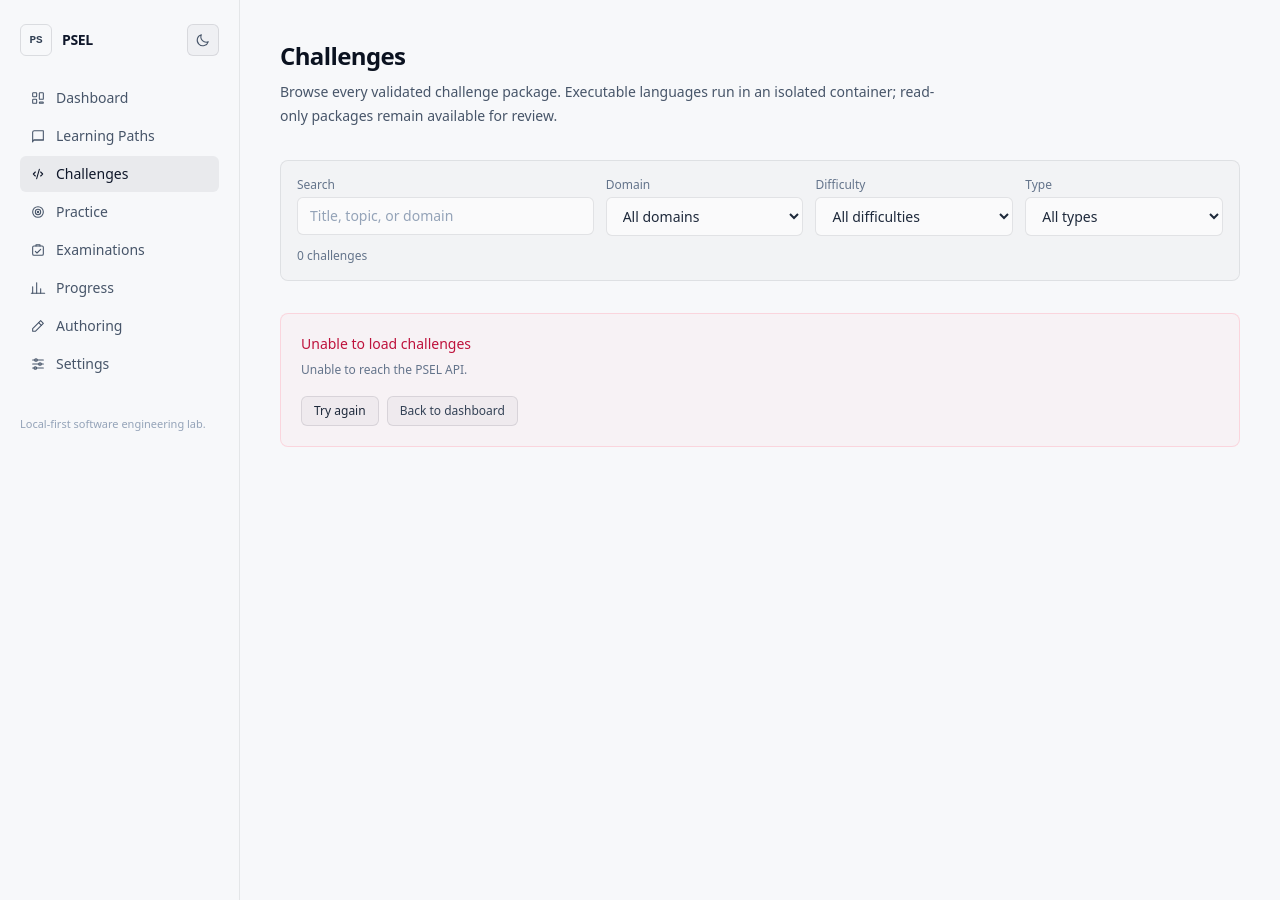
Test case: ChallengesPage › shows an error state and retries the request
Check: the message is shown, box x1=280 y1=313 x2=1240 y2=447
Check: the text "Unable to reach the PSEL API." is shown, box x1=301 y1=361 x2=467 y2=378
Click the button "Try again" at (340, 411), box x1=301 y1=396 x2=379 y2=426
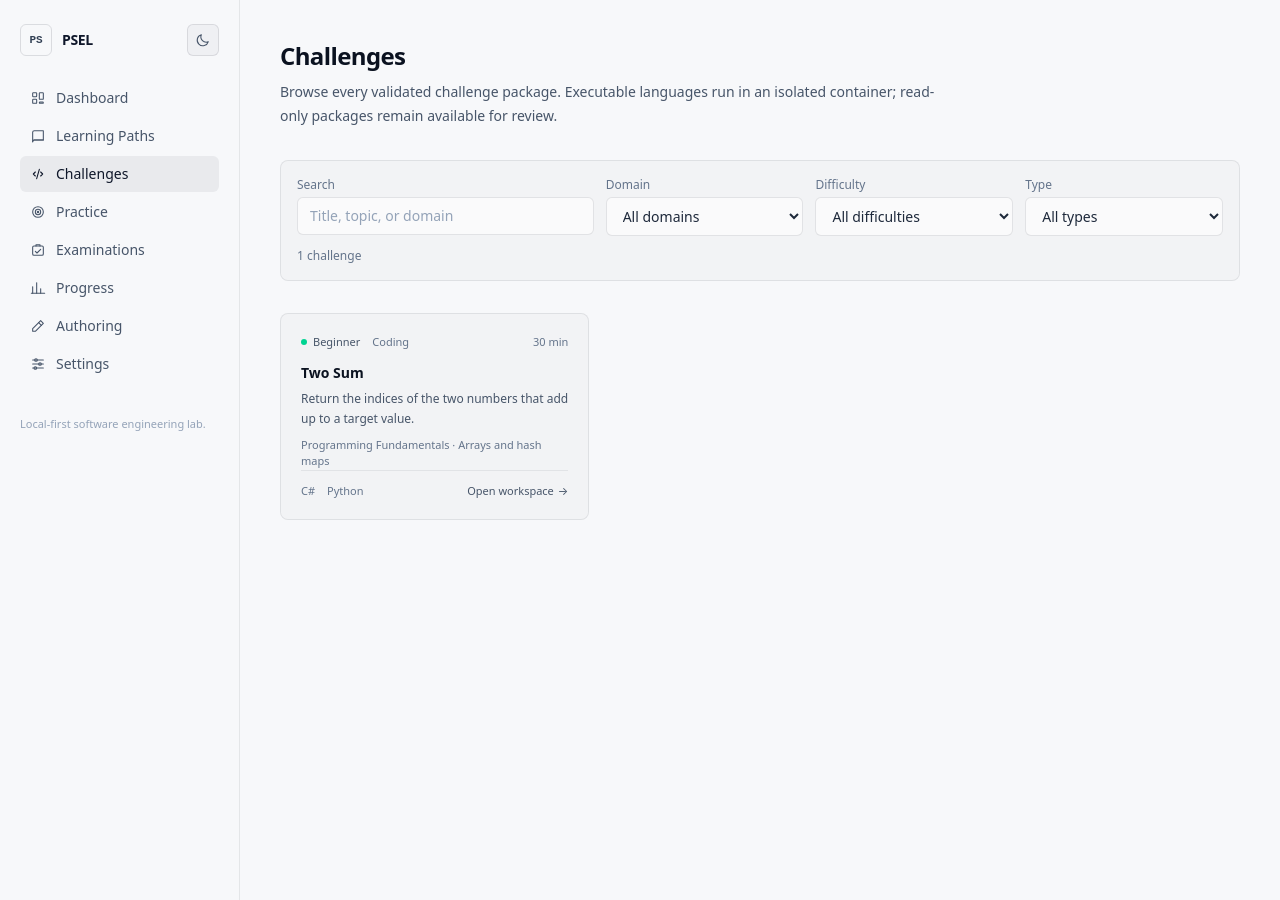
Check: the link "Two Sum" is shown, box x1=280 y1=313 x2=589 y2=520
